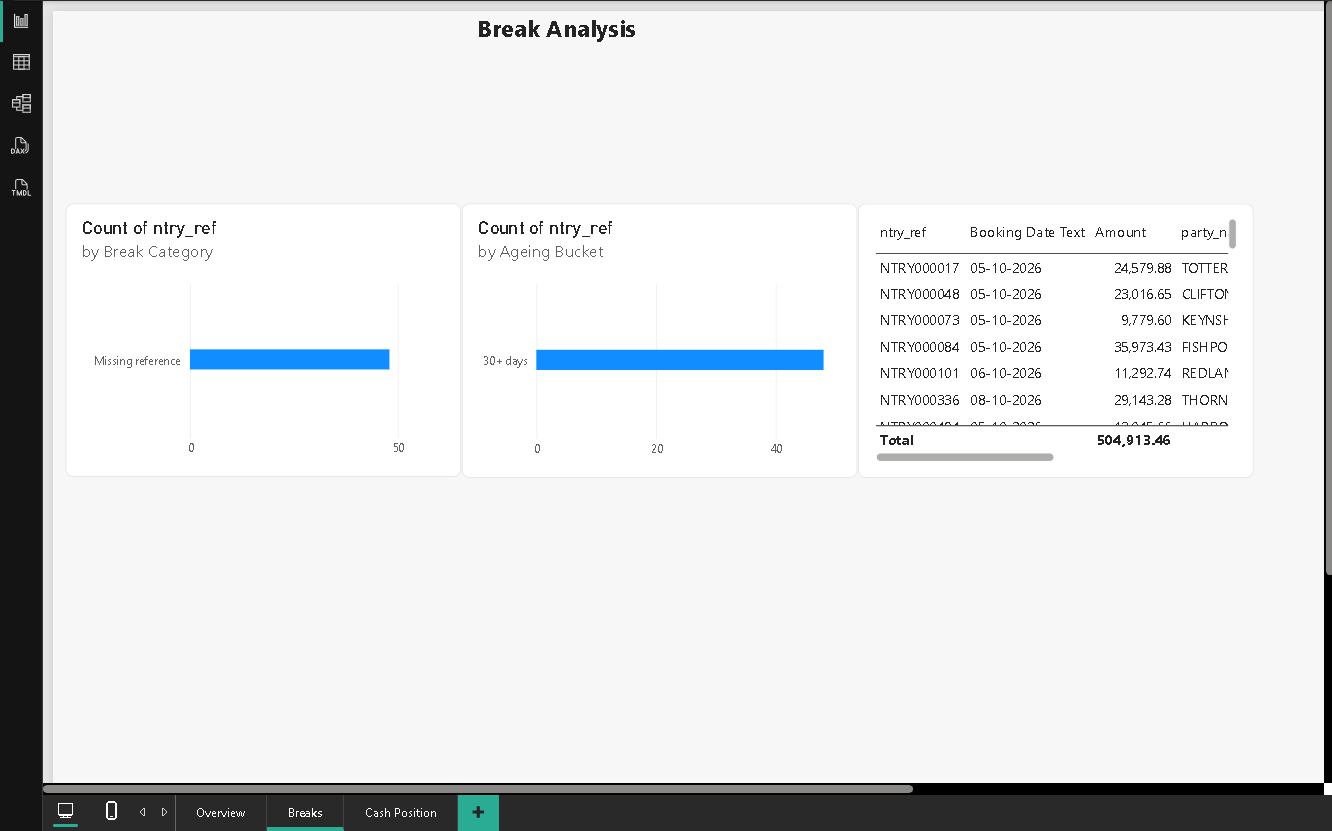

This screenshot's page, from the dashboard's own definition file:
{"tool":"powerbi","page":{"name":"Breaks","canvas":[1920,1080],"ordinal":1},"visuals":[{"type":"clusteredBarChart","fields":{"Category":["Breaks.Break Category"],"Y":["CountNonNull(Breaks.ntry_ref)"]},"box":[13.3,196.9,405.1,279.6],"z":0},{"type":"barChart","fields":{"Category":["Breaks.Ageing Bucket"],"Y":["CountNonNull(Breaks.ntry_ref)"]},"box":[418.4,196.9,405.1,280.6],"z":1},{"type":"tableEx","fields":{"Values":["Breaks.ntry_ref","Breaks.Booking Date Text","Sum(Breaks.amount)","Breaks.party_name","Sum(Breaks.Age Days)","Breaks.Break Category"]},"box":[823.5,196.9,405,281],"z":2},{"type":"textbox","box":[13.3,0,1004.1,73.5],"z":3}]}

Visuals, with their boxes on the page's 1920x1080 design canvas (x1, y1, x2, y2). These are canvas units, not pixel positions in the 1332x831 screenshot, which may show the page scaled, cropped or inside an application window:
clusteredBarChart - Breaks.Break Category x CountNonNull(Breaks.ntry_ref): <box>13,197,418,476</box>
barChart - Breaks.Ageing Bucket x CountNonNull(Breaks.ntry_ref): <box>418,197,824,478</box>
tableEx - Breaks.ntry_ref x Breaks.Booking Date Text: <box>824,197,1228,478</box>
textbox: <box>13,0,1017,74</box>
